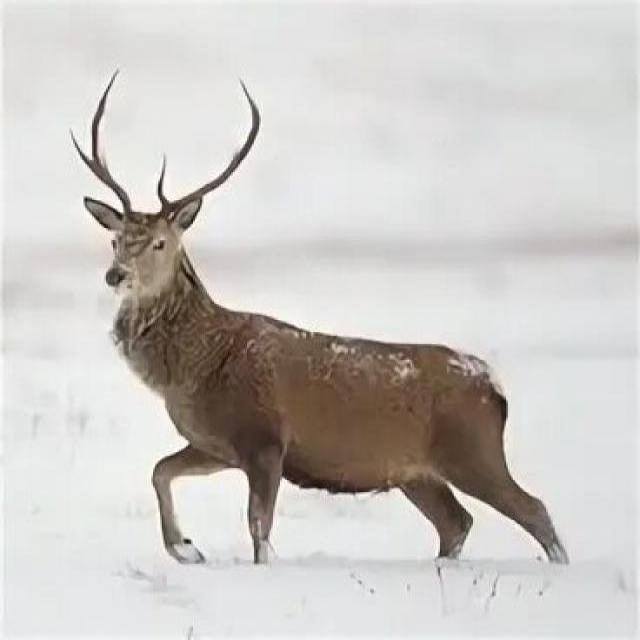deer: (48, 43, 560, 608)
